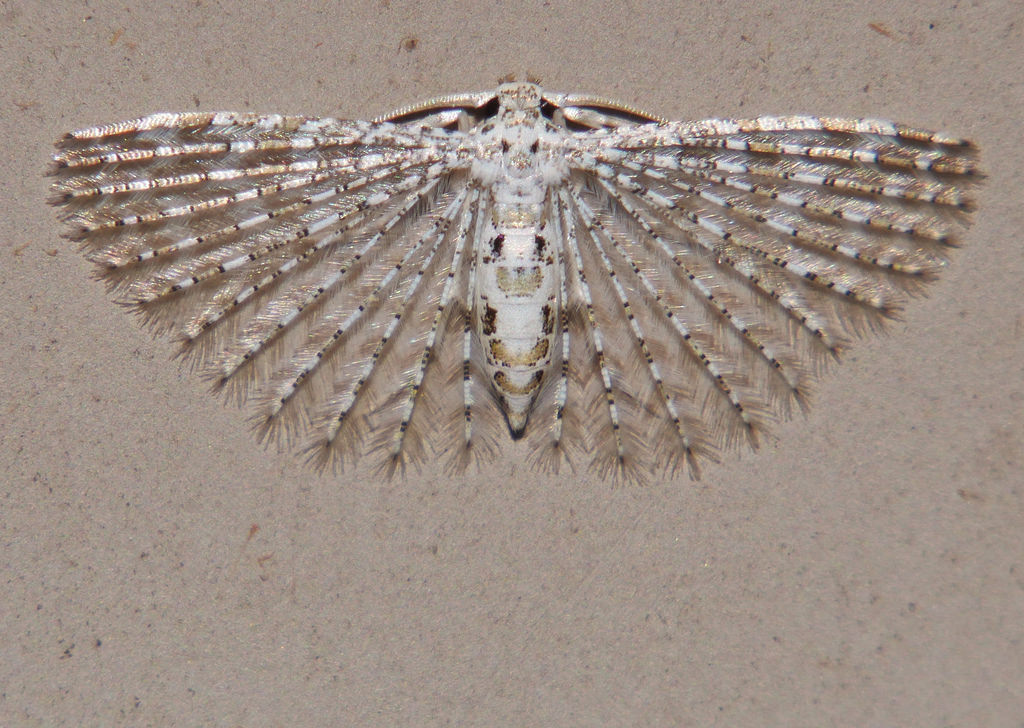Alucitidae: (51, 65, 980, 489)
moth: (49, 63, 978, 487)
